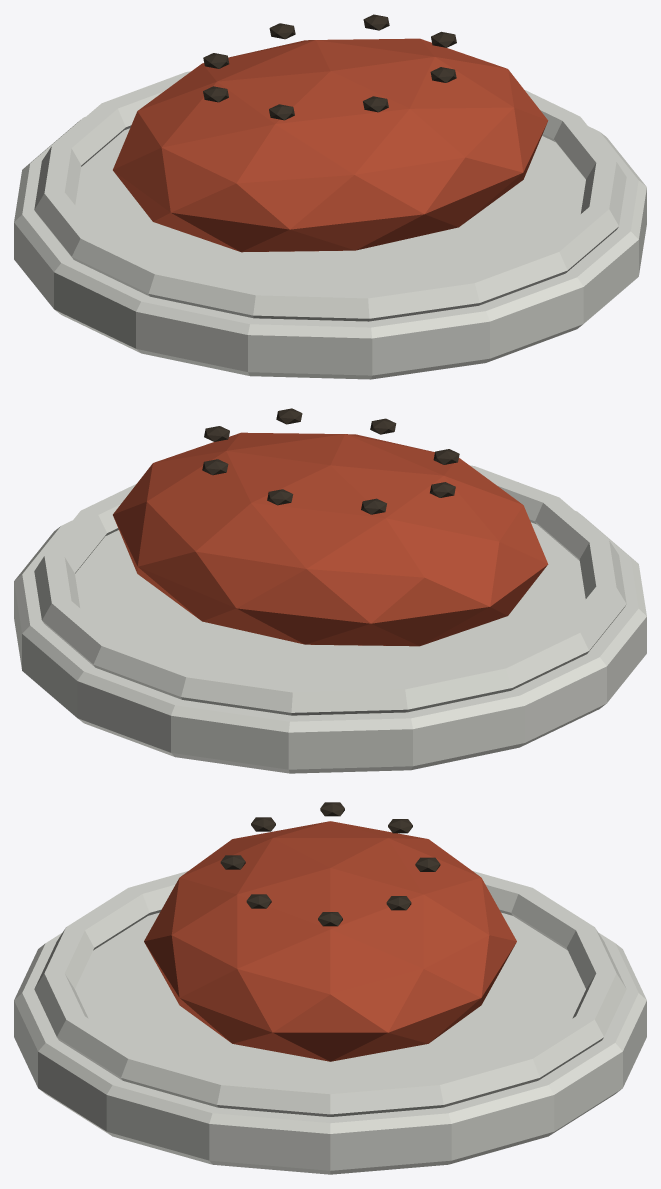
The model's file is black_pepper_beef_patty.glb.
3 renders of one model, top to bottom at view 1: azimuth 30°, elevation 25°; view 2: azimuth 150°, elevation 25°; view 3: azimuth 270°, elevation 25°, orthographic.
Parts seen in each view (by area): view 1: FTF_Dish_BlackPepperBeefPatty_StaticMesh; view 2: FTF_Dish_BlackPepperBeefPatty_StaticMesh; view 3: FTF_Dish_BlackPepperBeefPatty_StaticMesh.
Boxes of the visible parts, x1,y1,x2,y2 form: FTF_Dish_BlackPepperBeefPatty_StaticMesh: (14, 14, 646, 379); FTF_Dish_BlackPepperBeefPatty_StaticMesh: (14, 408, 646, 773); FTF_Dish_BlackPepperBeefPatty_StaticMesh: (14, 802, 646, 1174).
Size of the model in its own units: 0.78 by 0.253 by 0.78.
